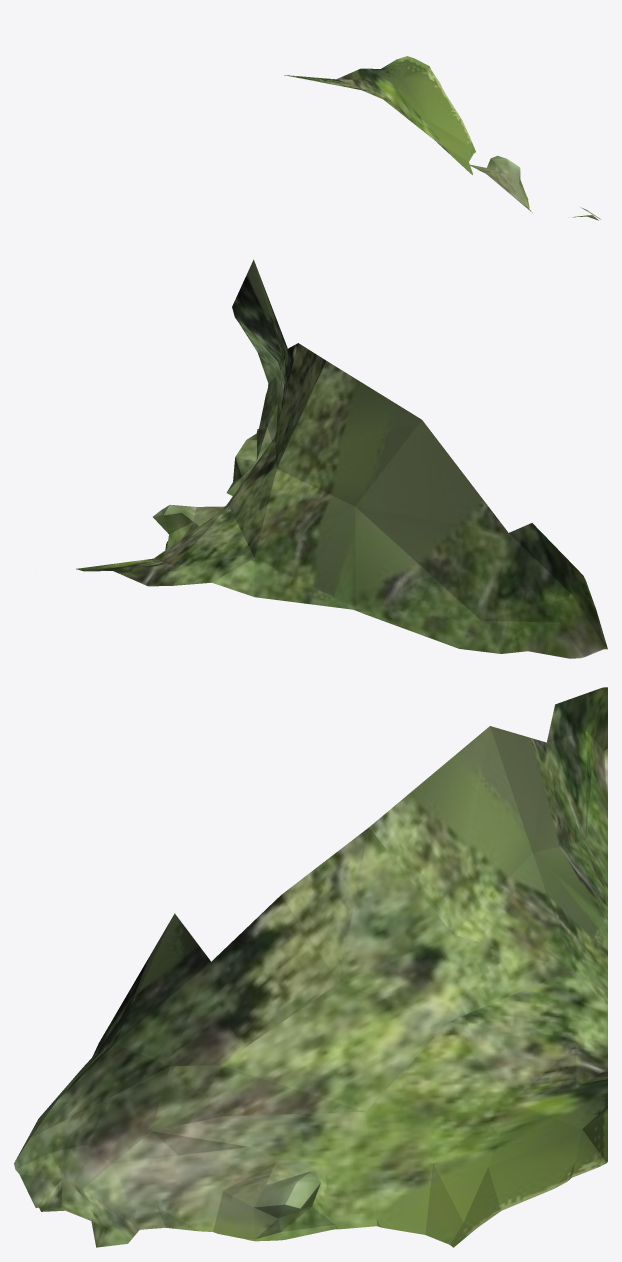
3 renders of one model, top to bottom at view 1: azimuth 30°, elevation 25°; view 2: azimuth 150°, elevation 25°; view 3: azimuth 270°, elevation 25°, orthographic. The views are drawn at different scales.
Size of the model in its own units: 48.67 by 21.33 by 36.09.
Materials: 1 (1 with a texture image).
